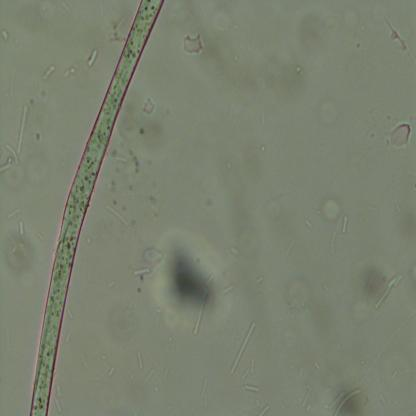Background material: (160, 224, 221, 312), (200, 38, 263, 98), (0, 232, 36, 286), (382, 16, 416, 71), (281, 270, 317, 314), (359, 261, 383, 307), (387, 120, 414, 148), (319, 193, 344, 220), (180, 30, 204, 56), (142, 245, 164, 267), (108, 19, 124, 44), (140, 95, 157, 115), (55, 378, 64, 414), (62, 61, 79, 79), (324, 107, 338, 125), (293, 63, 305, 78), (310, 360, 322, 374), (228, 244, 238, 258), (0, 27, 8, 41)
Glass filter fibre: (230, 321, 256, 375), (374, 273, 402, 309), (330, 385, 362, 416), (192, 288, 210, 336), (15, 105, 27, 157), (106, 204, 128, 226), (329, 220, 341, 256), (3, 143, 19, 166), (5, 206, 24, 221), (302, 384, 312, 411), (143, 366, 156, 386), (243, 381, 260, 396), (87, 48, 99, 68), (42, 63, 56, 80), (132, 266, 151, 277), (220, 282, 235, 295), (340, 216, 348, 236), (114, 154, 130, 164), (137, 350, 144, 372), (249, 355, 256, 376), (0, 162, 12, 173), (260, 403, 270, 415), (18, 220, 25, 237), (66, 308, 74, 322), (255, 274, 264, 286), (107, 367, 115, 379), (241, 370, 249, 382), (305, 219, 313, 229)
Microfibre: (29, 0, 166, 416)
